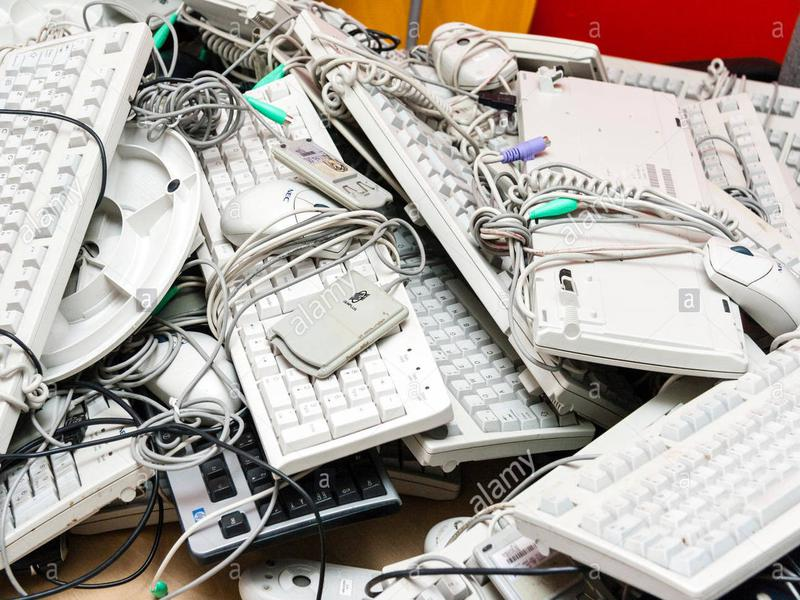keyboard: (173, 74, 455, 470), (498, 359, 800, 600), (1, 22, 147, 464)
mouse: (214, 179, 359, 261), (693, 229, 800, 337), (131, 329, 247, 424), (419, 18, 521, 94)
